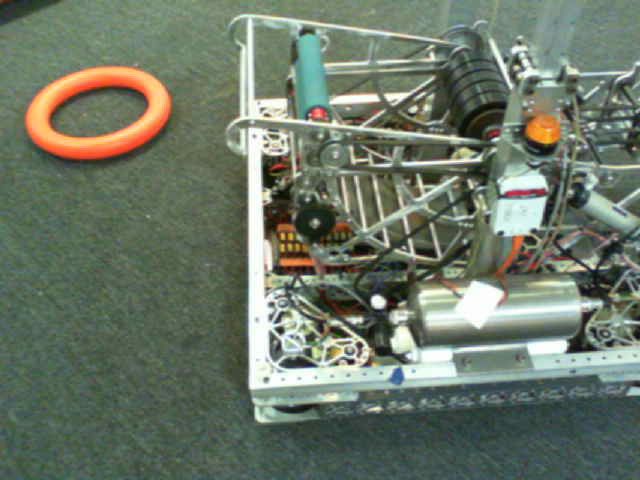Note: (31, 72, 175, 170)
Robot: (248, 48, 640, 435)
